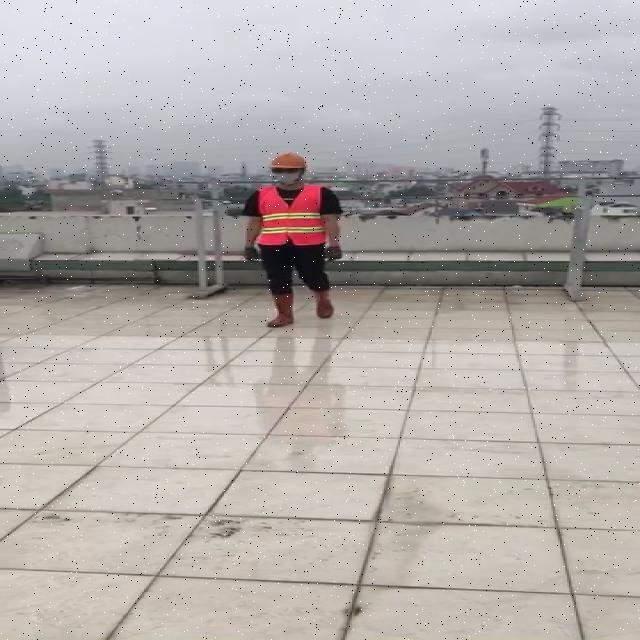Hard_hat: (267, 148, 314, 174)
Vest: (254, 189, 321, 246)
